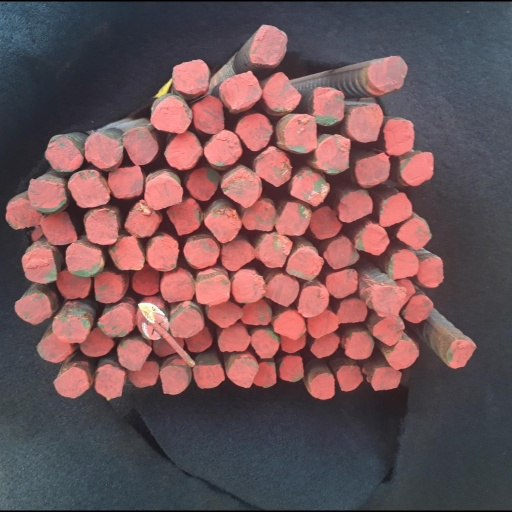dipstick: (261, 71, 301, 113), (249, 23, 287, 66), (219, 72, 261, 110), (67, 170, 109, 208), (163, 131, 203, 170), (368, 54, 407, 92), (203, 129, 242, 167), (123, 201, 160, 241), (83, 132, 121, 170), (194, 267, 231, 306), (255, 148, 291, 188), (28, 178, 68, 214), (316, 134, 351, 175), (289, 171, 330, 206), (136, 298, 171, 339), (312, 83, 345, 126), (353, 151, 390, 189), (236, 114, 273, 152), (165, 199, 203, 236), (171, 58, 210, 94), (151, 97, 190, 133), (123, 127, 158, 167), (107, 234, 144, 271), (348, 105, 384, 143), (66, 241, 105, 276), (285, 112, 317, 154), (168, 301, 204, 338), (46, 136, 82, 173), (83, 209, 120, 245), (204, 208, 241, 243), (144, 176, 183, 209), (399, 151, 435, 186), (276, 201, 312, 236), (222, 171, 258, 206), (22, 249, 58, 284), (192, 95, 225, 133), (40, 214, 79, 246), (382, 118, 415, 155), (285, 249, 323, 281), (308, 206, 343, 240), (257, 233, 291, 268), (187, 167, 221, 202), (182, 236, 219, 268), (13, 293, 51, 324), (52, 369, 91, 399), (92, 365, 126, 399), (379, 193, 414, 226), (324, 237, 359, 270), (108, 166, 143, 199), (220, 239, 257, 270), (371, 284, 406, 316), (337, 191, 373, 222), (116, 339, 152, 370), (51, 315, 90, 343), (265, 274, 299, 306), (227, 354, 259, 388), (355, 224, 390, 255), (148, 236, 179, 271), (132, 258, 161, 295), (232, 270, 265, 302), (384, 339, 418, 370), (396, 220, 432, 249), (243, 200, 276, 231), (79, 327, 114, 356), (55, 270, 91, 298), (324, 268, 356, 299), (297, 285, 329, 316), (160, 274, 194, 303), (98, 308, 132, 337), (6, 201, 40, 230), (402, 293, 434, 323), (372, 317, 406, 345), (217, 324, 251, 352), (36, 334, 71, 361), (159, 364, 189, 395), (93, 272, 124, 302), (273, 311, 306, 339), (206, 304, 244, 328), (387, 250, 419, 278), (415, 257, 443, 287), (447, 339, 477, 367), (239, 299, 271, 325), (128, 361, 160, 387), (370, 365, 402, 390), (306, 311, 338, 336), (191, 364, 224, 388), (336, 364, 364, 392), (250, 330, 278, 358), (344, 333, 374, 359), (279, 354, 305, 383), (310, 333, 340, 358), (309, 372, 335, 400), (337, 300, 366, 324), (153, 334, 184, 356), (252, 360, 277, 387), (185, 329, 211, 352), (282, 335, 306, 353)
